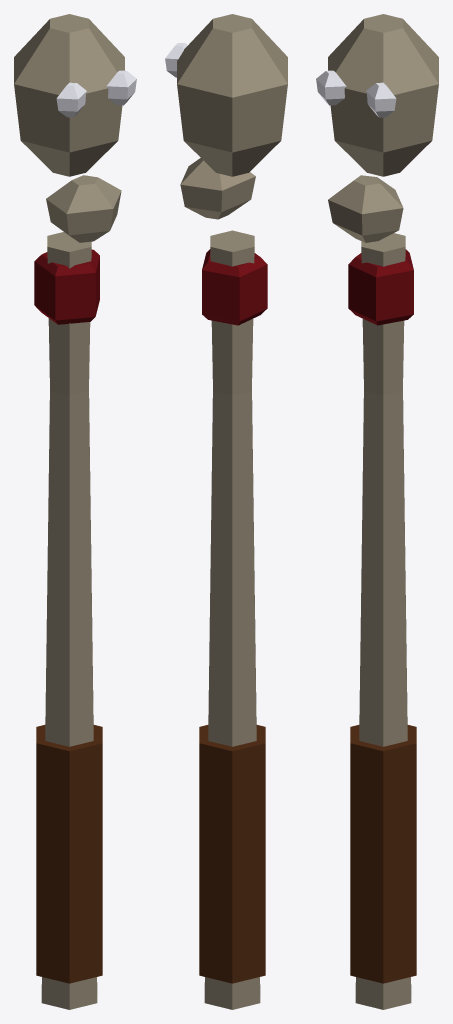
The model's file is wpn_wand_8.glb.
3 renders of one model, left to right at view 1: azimuth 30°, elevation 25°; view 2: azimuth 210°, elevation 25°; view 3: azimuth 330°, elevation 25°, orthographic.
Parts seen in each view (by area): view 1: wpn_wand_8; view 2: wpn_wand_8; view 3: wpn_wand_8.
Boxes of the visible parts, box(x1,y1,x2,y2) form: wpn_wand_8: box(14, 14, 136, 1009); wpn_wand_8: box(165, 14, 287, 1009); wpn_wand_8: box(316, 14, 438, 1009).
Size of the model in its own units: 0.08 by 0.67 by 0.0766.
